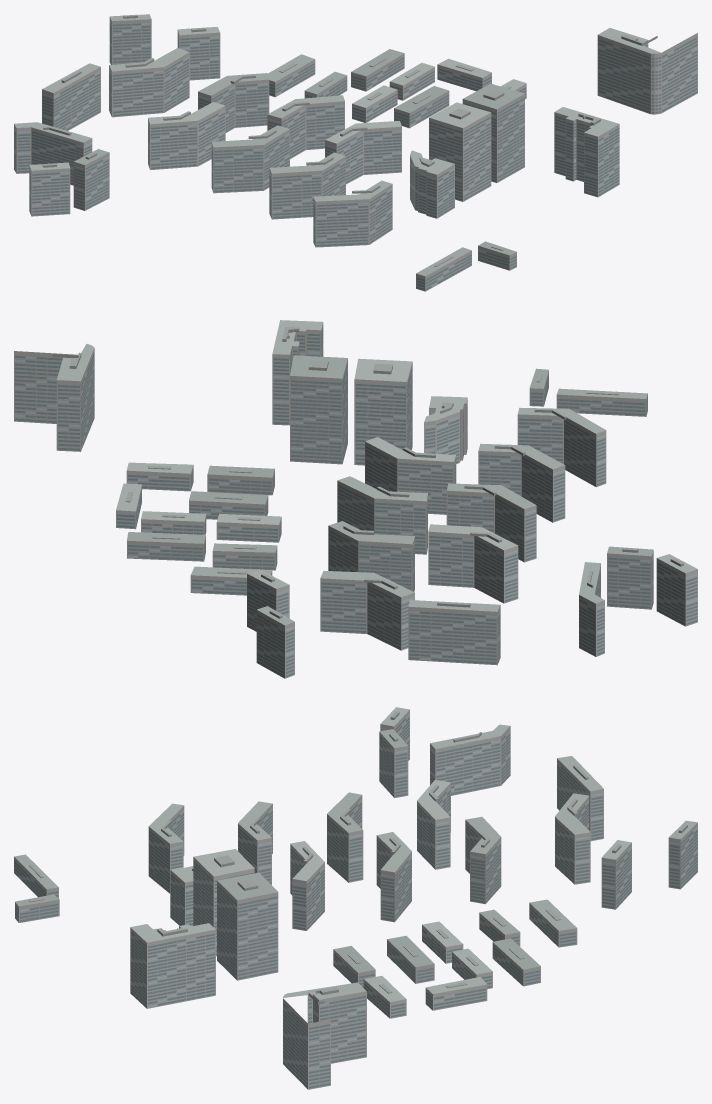
File: apt-a15873701.glb
3 renders of one model, top to bottom at view 1: azimuth 30°, elevation 25°; view 2: azimuth 150°, elevation 25°; view 3: azimuth 270°, elevation 25°, orthographic. The views are drawn at different scales.
Parts seen in each view (by area): view 1: apt-a15873701; view 2: apt-a15873701; view 3: apt-a15873701.
Part boxes in pixels (x1,y1,x2,y2): apt-a15873701: (14, 14, 697, 291); apt-a15873701: (14, 320, 697, 678); apt-a15873701: (14, 707, 697, 1089).
Size of the model in its own units: 653 by 76 by 568.
